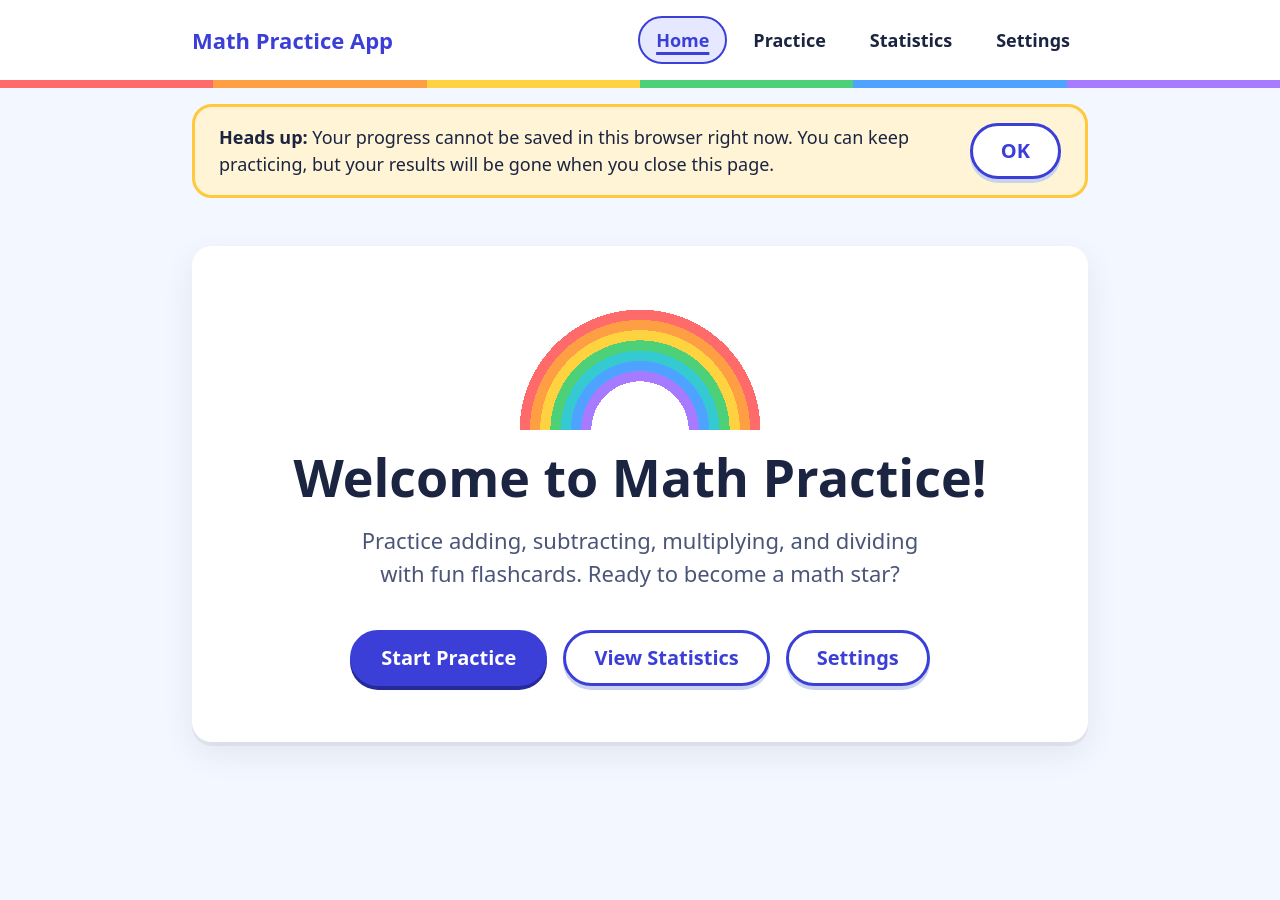
Test: StorageWarning › when storage is unavailable › does not stop the app from working
Click the link "Start Practice": x=449, y=658 [350, 630, 547, 686]
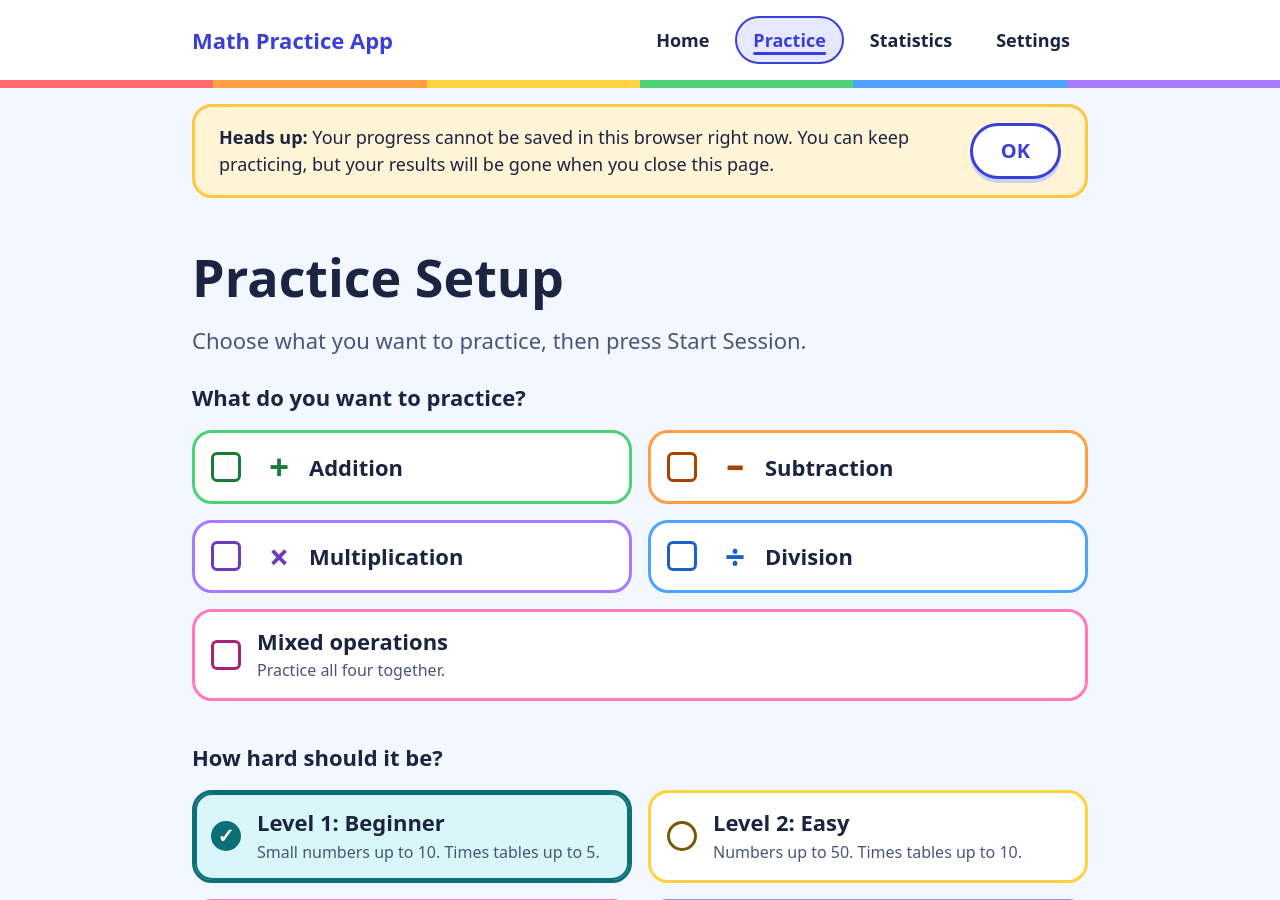
expect the heading "Practice Setup" is shown: met, box [192, 241, 564, 312]
